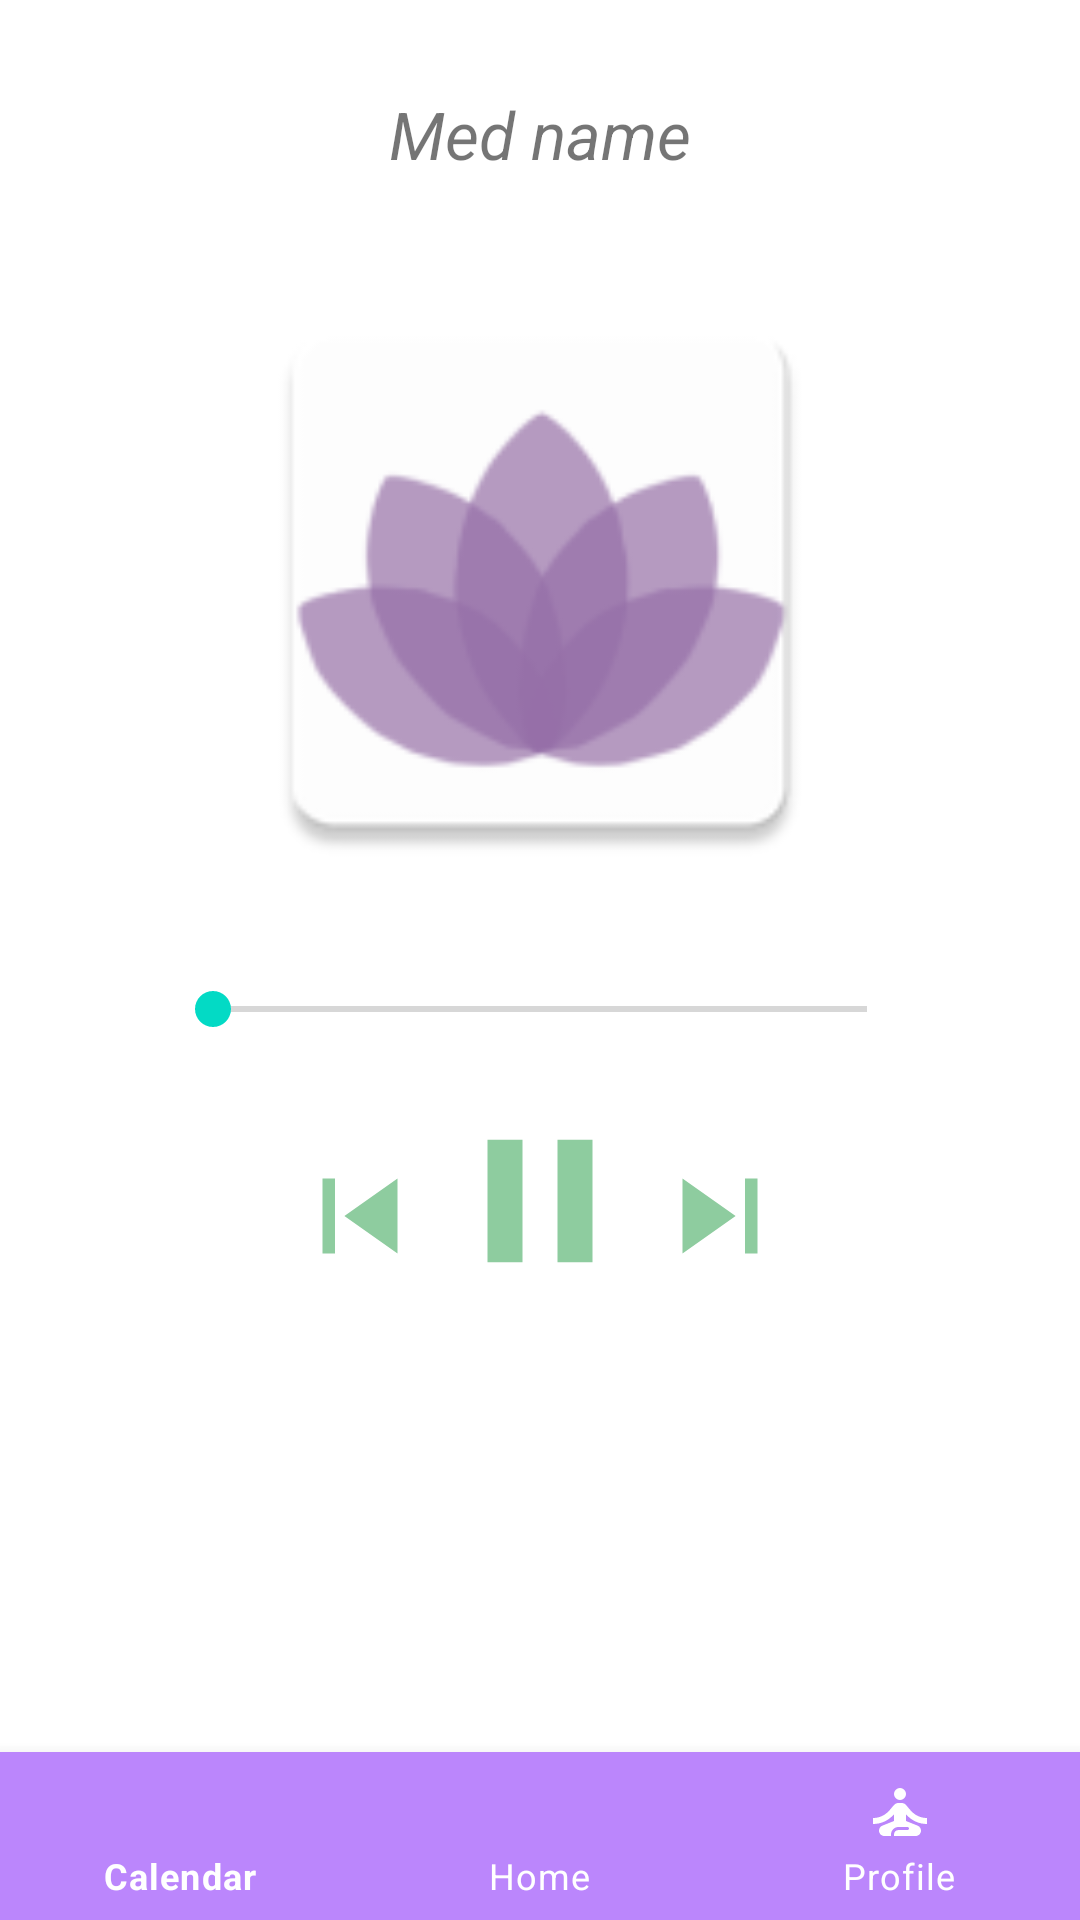

Named icons in this screenshot (1080×1920) and their bounding boxes, bbox=[x1, y1, x2, y2]:
next: bbox=[682, 1178, 758, 1254]
pause: bbox=[487, 1139, 593, 1263]
previous: bbox=[322, 1178, 398, 1254]
